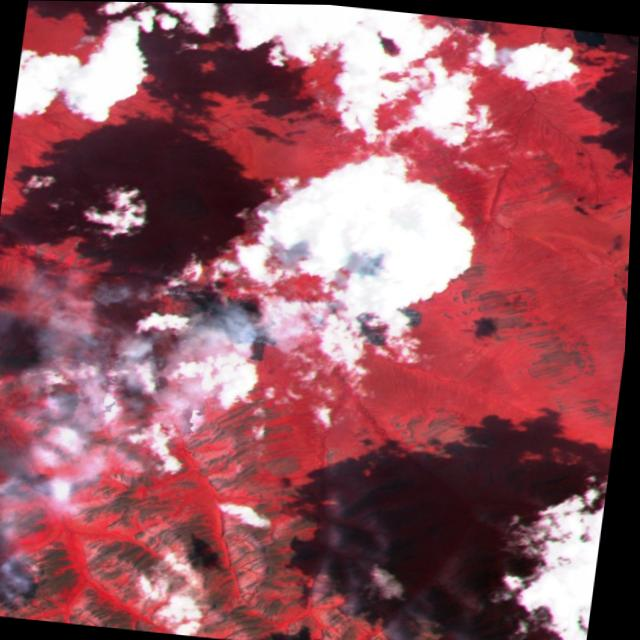fire: (174, 271, 431, 379)
